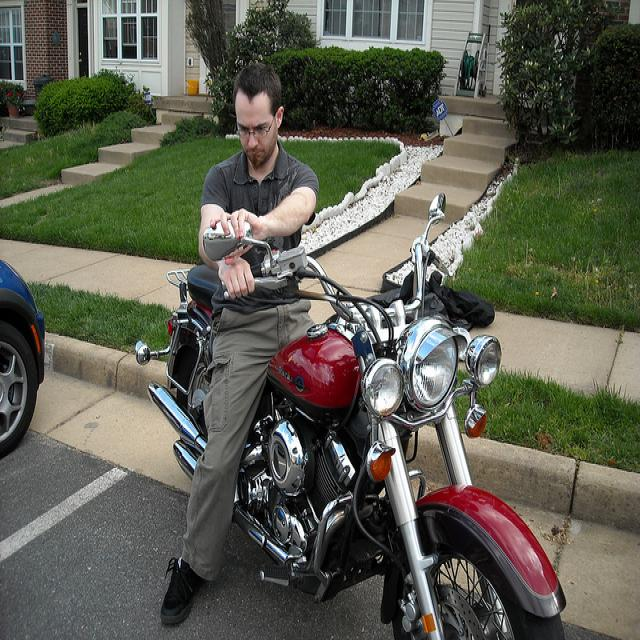motor: (132, 191, 588, 633)
